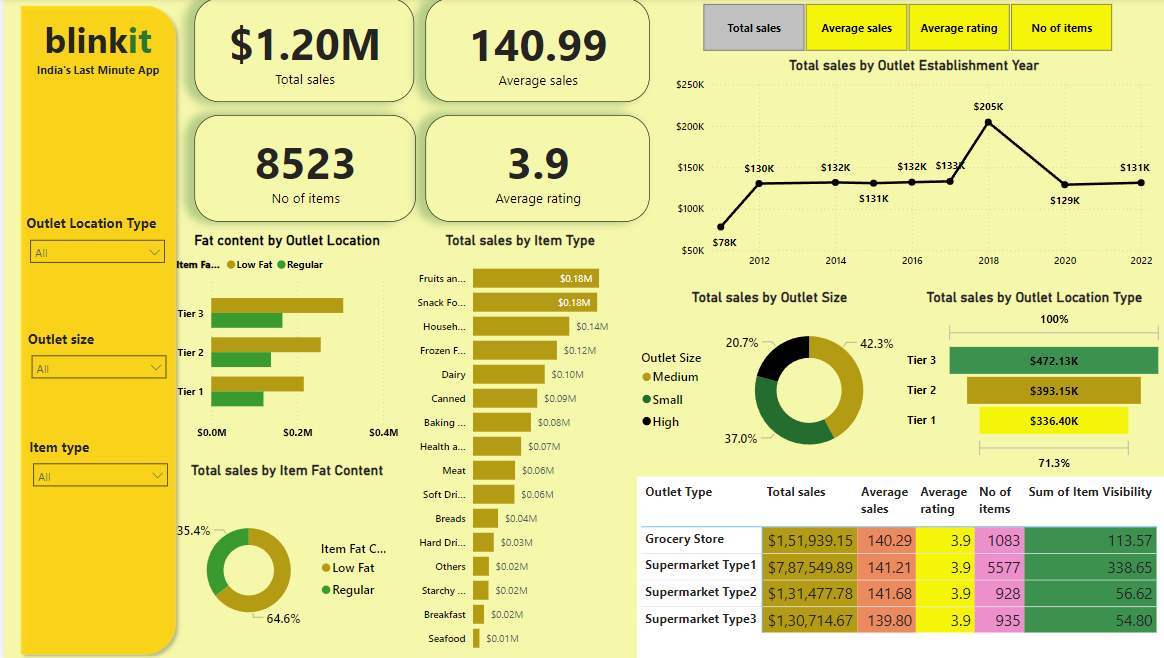

The dashboard page shown, as its layout file describes it:
{"tool":"powerbi","page":{"name":"Page 1","canvas":[1400,800],"ordinal":0},"visuals":[{"type":"shape","box":[10.8,0,204.9,800],"z":0},{"type":"textbox","box":[23.4,14.4,179.8,88.1],"z":1000},{"type":"card","fields":{"Values":["Sheet1.Total sales"]},"box":[229.6,0,264.9,125.4],"z":2000},{"type":"card","fields":{"Values":["Sheet1.Average sales"]},"box":[508.6,0,270.2,125.4],"z":3000},{"type":"card","fields":{"Values":["Sheet1.No of items"]},"box":[229.6,141.3,266.7,128.9],"z":4000},{"type":"card","fields":{"Values":["Sheet1.Average rating"]},"box":[508.6,141.3,270.2,128.9],"z":5000},{"type":"slicer","fields":{"Values":["Metrics.Metrics"]},"box":[817.7,0,542.2,70.6],"z":7000},{"type":"barChart","fields":{"Y":["Sheet1.Total sales"],"Category":["Sheet1.Item Type"]},"box":[480.4,282.6,282.6,517.4],"z":9000},{"type":"clusteredBarChart","title":"Fat content by Outlet Location","fields":{"Y":["Sheet1.Total sales"],"Category":["Sheet1.Outlet Location Type"],"Series":["Sheet1.Item Fat Content"]},"box":[203.1,282.6,277.3,259.6],"z":10000},{"type":"donutChart","fields":{"Y":["Sheet1.Total sales"],"Category":["Sheet1.Item Fat Content"]},"box":[203.1,558.1,277.3,241.9],"z":11000},{"type":"lineChart","fields":{"Category":["Sheet1.Outlet Establishment Year"],"Y":["Sheet1.Total sales"]},"box":[803.5,70.6,584.5,263.1],"z":11001},{"type":"donutChart","fields":{"Y":["Sheet1.Total sales"],"Category":["Sheet1.Outlet Size"]},"box":[762.9,351.4,319.6,224.3],"z":11002},{"type":"funnel","fields":{"Category":["Sheet1.Outlet Location Type"],"Y":["Sheet1.Total sales"]},"box":[1082.6,351.4,317.9,224.3],"z":11003},{"type":"pivotTable","fields":{"Rows":["Sheet1.Outlet Type"],"Values":["Sheet1.Total sales","Sheet1.Average sales","Sheet1.Average rating","Sheet1.No of items","Sum(Sheet1.Item Visibility)"]},"box":[762.9,575.7,637.5,224.3],"z":11004},{"type":"slicer","title":"Outlet Location Type","fields":{"Values":["Sheet1.Outlet Location Type"]},"box":[22,260,182,92],"z":11005},{"type":"slicer","title":"Outlet size","fields":{"Values":["Sheet1.Outlet Size"]},"box":[24,400,182,92],"z":11006},{"type":"slicer","title":"Item type","fields":{"Values":["Sheet1.Item Type"]},"box":[26,530,182,92],"z":11007}]}

Visuals, with their boxes in screenshot pixels (x1, y1, x2, y2), scaled from the page's 1400x800 canvas onto the 1164x658 screenshot:
shape: bbox(9, 0, 179, 657)
textbox: bbox(19, 12, 169, 84)
card - Sheet1.Total sales: bbox(191, 0, 411, 103)
card - Sheet1.Average sales: bbox(423, 0, 648, 103)
card - Sheet1.No of items: bbox(191, 116, 413, 222)
card - Sheet1.Average rating: bbox(423, 116, 648, 222)
slicer - Metrics.Metrics: bbox(680, 0, 1131, 58)
barChart - Sheet1.Total sales x Sheet1.Item Type: bbox(399, 232, 634, 657)
"Fat content by Outlet Location" clusteredBarChart: bbox(169, 232, 399, 446)
donutChart - Sheet1.Total sales x Sheet1.Item Fat Content: bbox(169, 459, 399, 657)
lineChart - Sheet1.Outlet Establishment Year x Sheet1.Total sales: bbox(668, 58, 1154, 274)
donutChart - Sheet1.Total sales x Sheet1.Outlet Size: bbox(634, 289, 900, 474)
funnel - Sheet1.Outlet Location Type x Sheet1.Total sales: bbox(900, 289, 1163, 474)
pivotTable - Sheet1.Outlet Type x Sheet1.Total sales: bbox(634, 474, 1163, 657)
"Outlet Location Type" slicer: bbox(18, 214, 170, 290)
"Outlet size" slicer: bbox(20, 329, 171, 405)
"Item type" slicer: bbox(22, 436, 173, 512)
